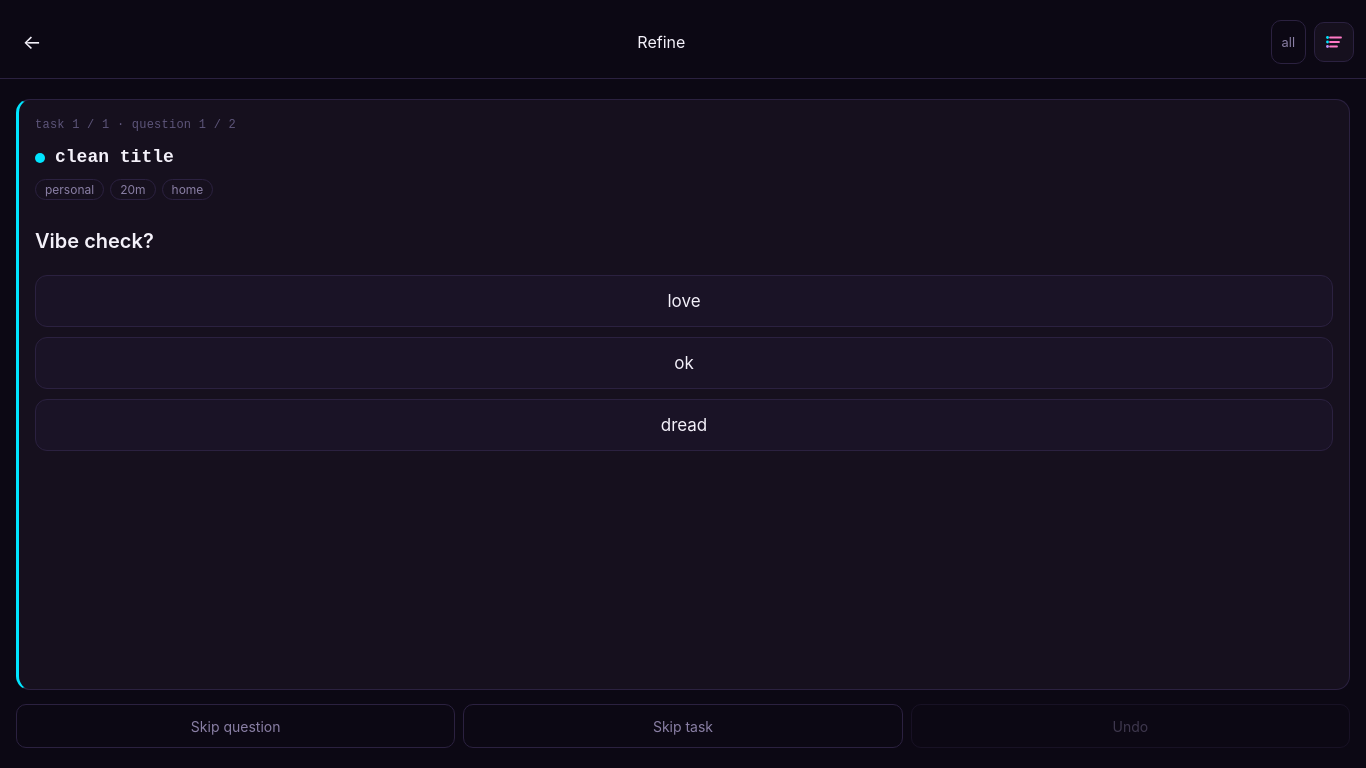
Test case: RefinePage › does not skip the next question after answering one
The image size is (1366, 768).
Expected: the text "Vibe check?" is shown, [35,229,154,253]
Click the button "ok".
click(684, 363)  # box [35,337,1333,389]
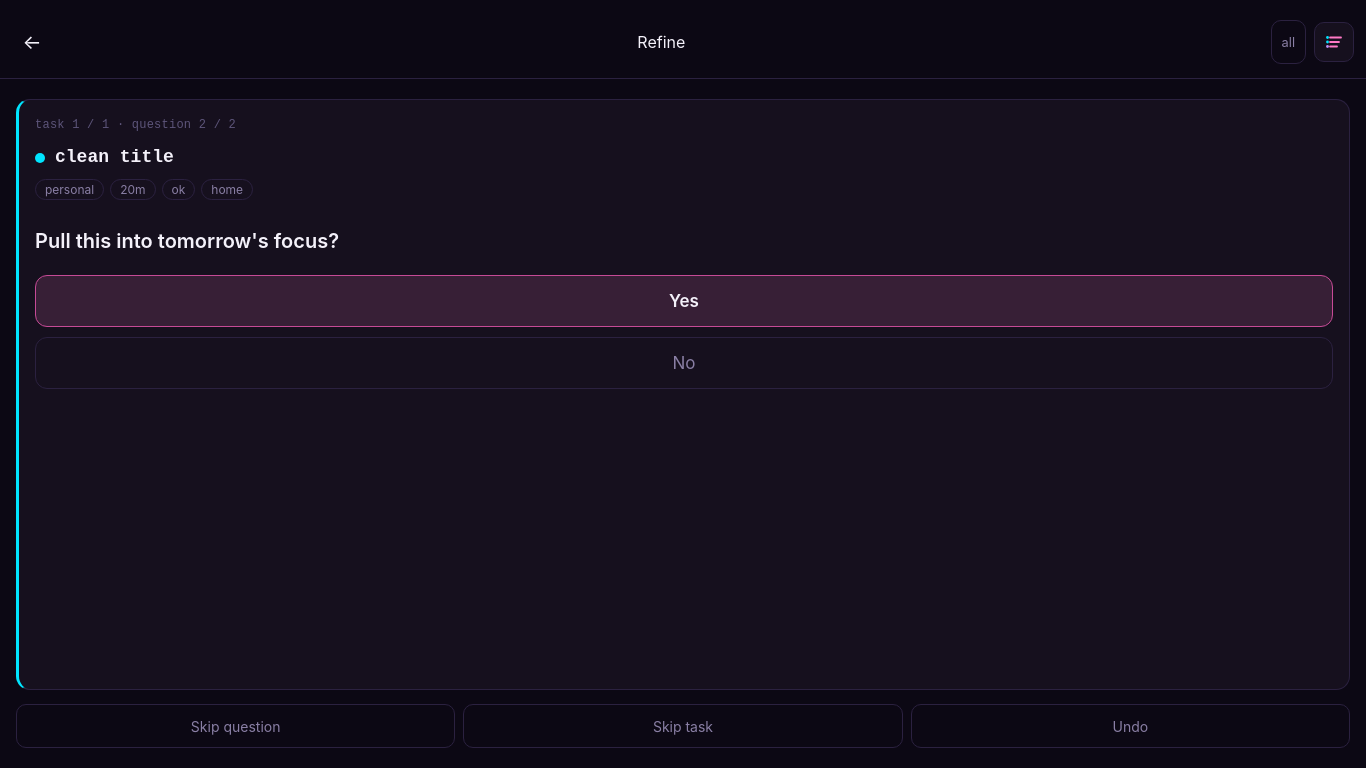
Expected: the text "Pull this into tomorrow's focus?" is shown, [35,229,339,253]
Expected: the text "task 1 / 1 · question 2 / 2" is shown, [35,118,236,132]
